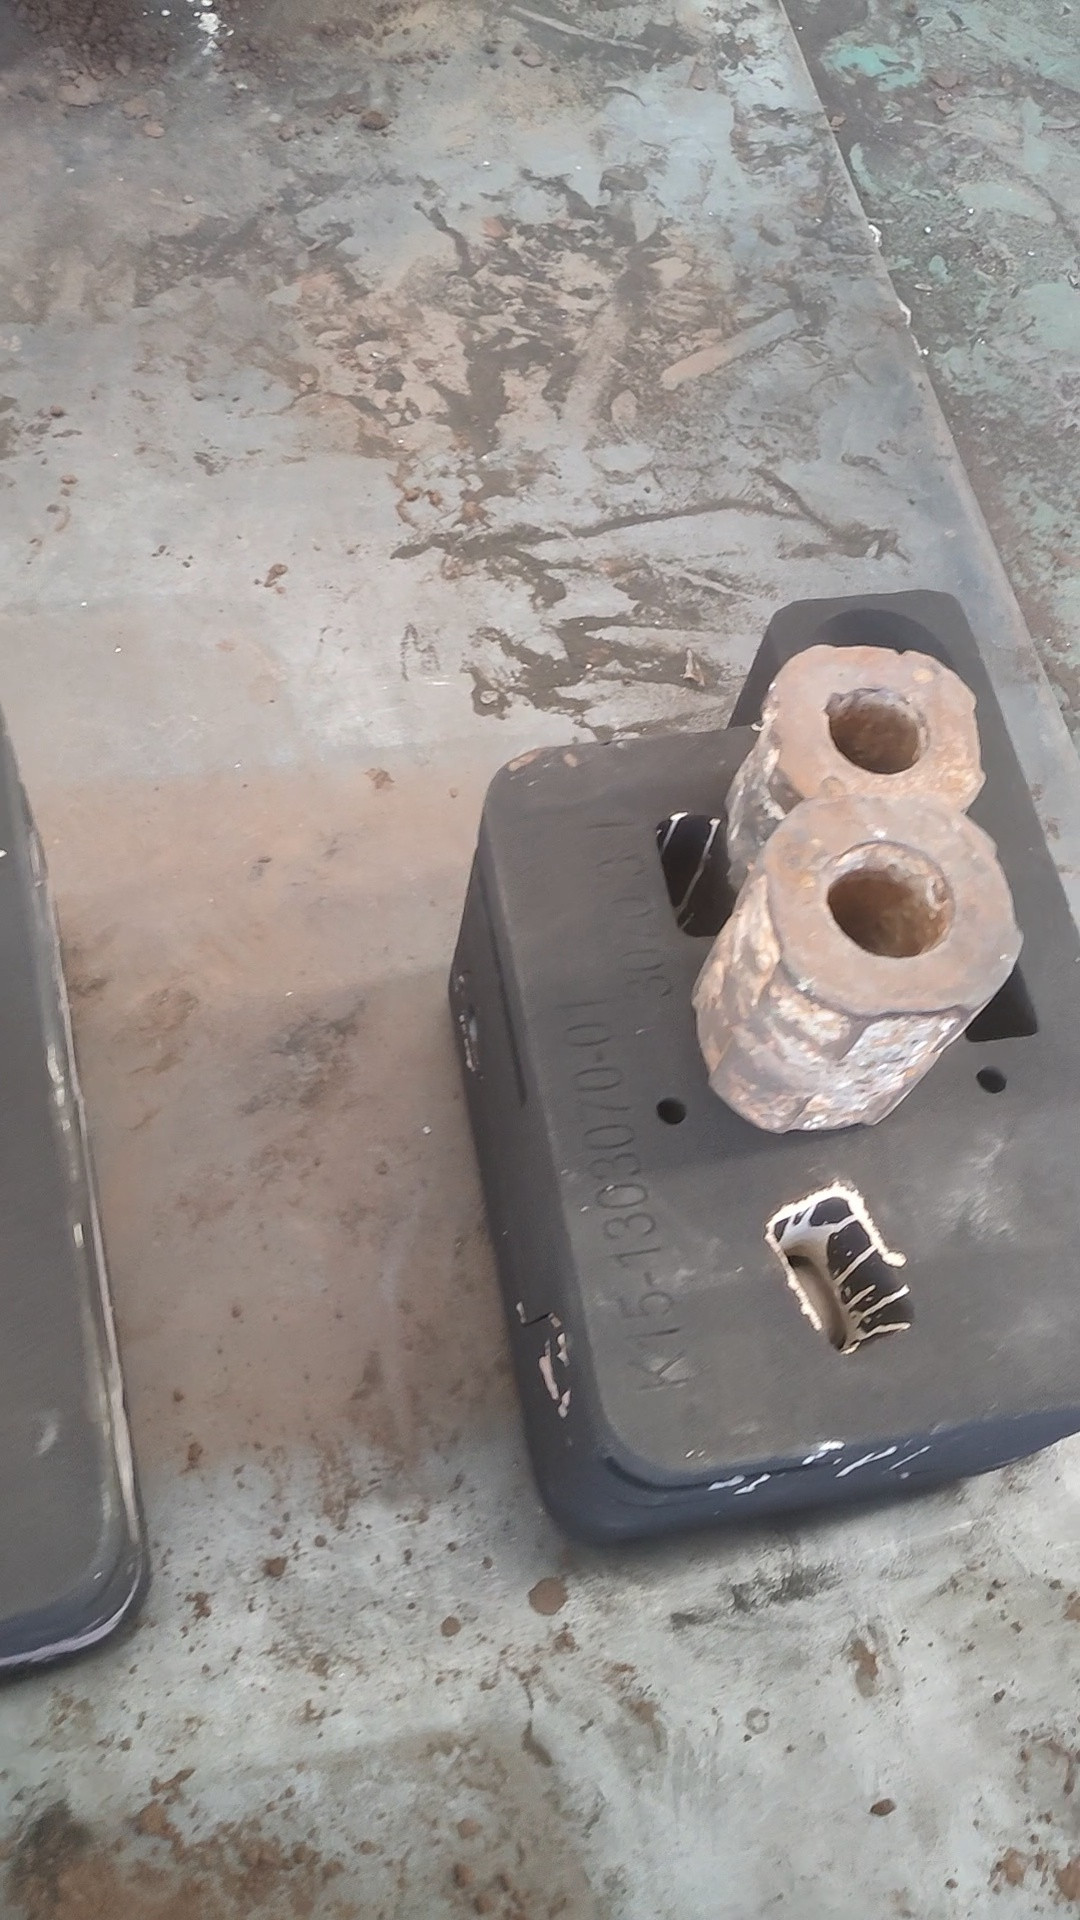pouring hole: (802, 608, 961, 731)
